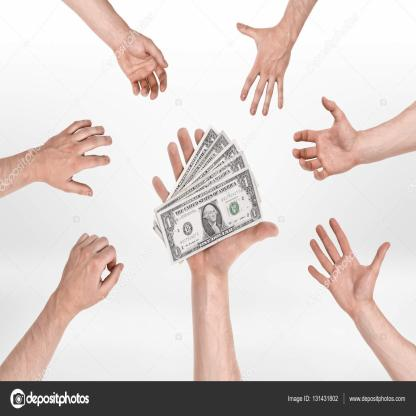billete: (152, 124, 263, 264)
